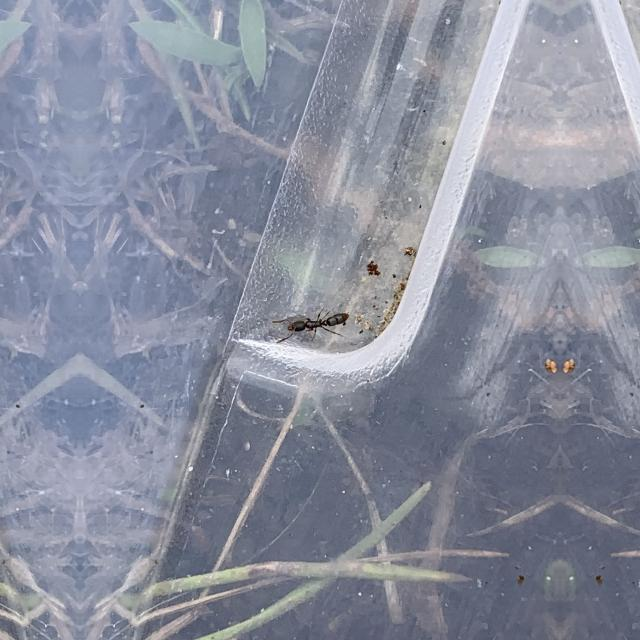Ponera: (270, 290, 354, 346)
